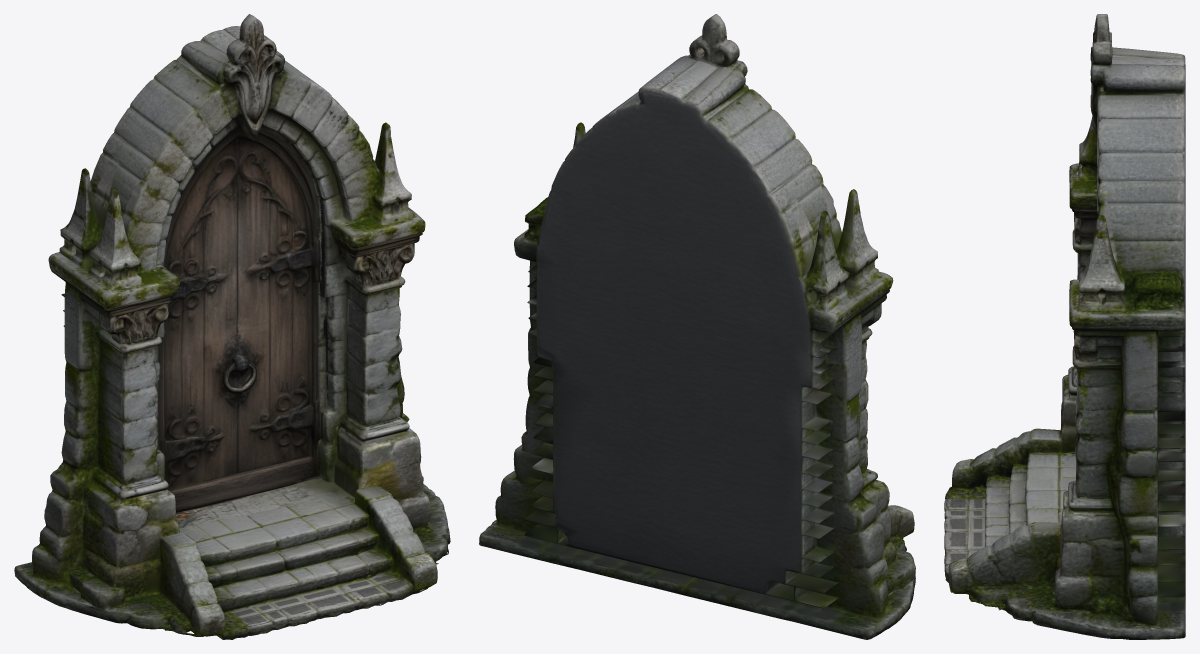
Rendered from portao.glb.
3 renders of one model, left to right at view 1: azimuth 30°, elevation 25°; view 2: azimuth 150°, elevation 25°; view 3: azimuth 270°, elevation 25°, orthographic. The views are drawn at different scales.
Parts seen in each view (by area): view 1: node_0; view 2: node_0; view 3: node_0.
Part boxes in pixels (bbox=[...]): node_0: bbox=[14, 14, 450, 639]; node_0: bbox=[479, 14, 915, 639]; node_0: bbox=[944, 14, 1185, 639].
Bounding box in the file's own units: 3.97 × 5.2 × 2.14.
Materials: 1 (1 with a texture image).
